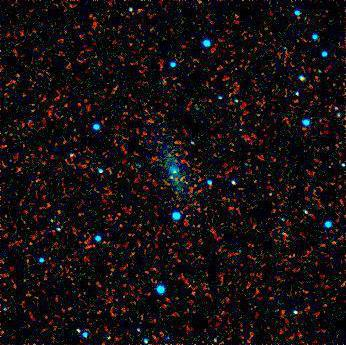star: (154, 161, 184, 191)
